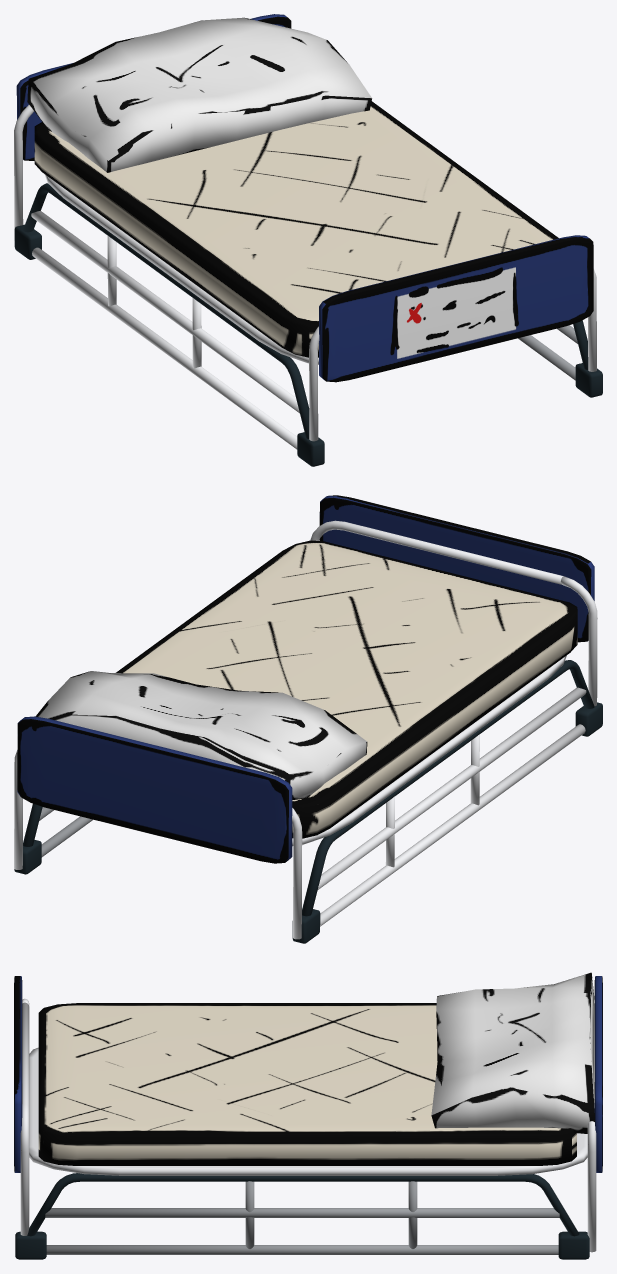
The model's file is SM_HospitalBed.fbx.
3 views of the same model, one above another, from view 1: azimuth 30°, elevation 25°; view 2: azimuth 150°, elevation 25°; view 3: azimuth 270°, elevation 25° (orthographic). The views are drawn at different scales.
Parts seen in each view (by area): view 1: SM_HospitalBed; view 2: SM_HospitalBed; view 3: SM_HospitalBed.
Boxes of the visible parts, x1=… form: SM_HospitalBed: x1=14, y1=14, x2=602, y2=466; SM_HospitalBed: x1=14, y1=495, x2=602, y2=943; SM_HospitalBed: x1=14, y1=972, x2=602, y2=1259.
Size of the model in its own units: 209 by 126 by 381.
